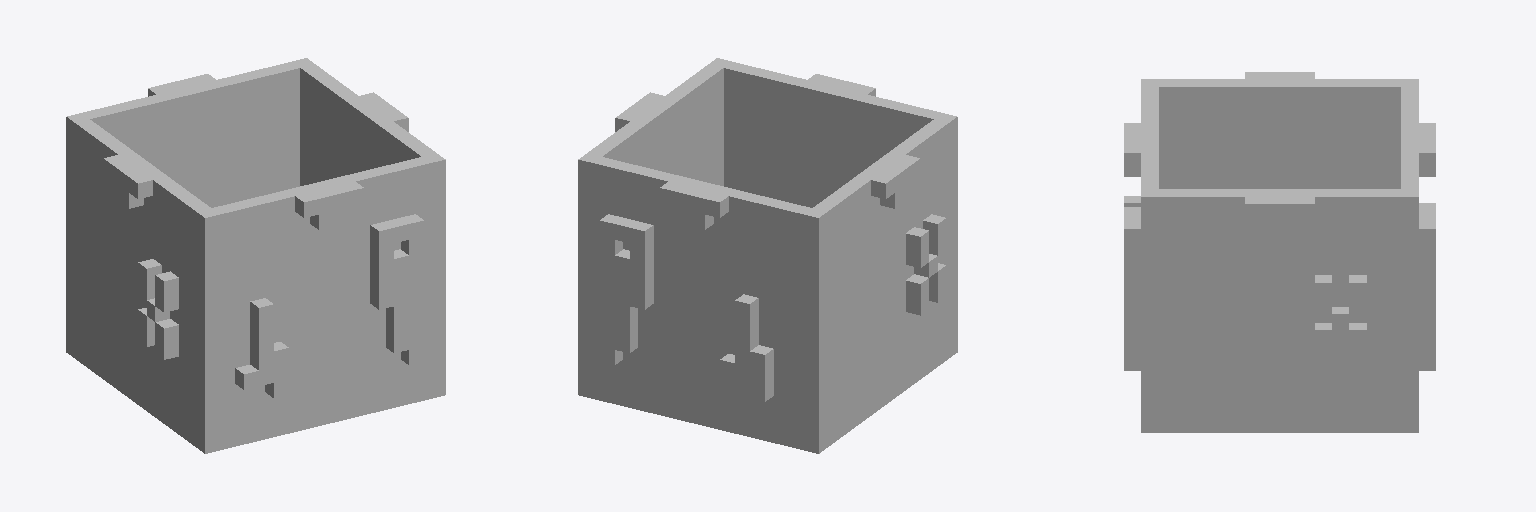
File: craftingtable.obj
3 renders of one model, left to right at view 1: azimuth 30°, elevation 25°; view 2: azimuth 150°, elevation 25°; view 3: azimuth 270°, elevation 25°, orthographic.
Visible parts, largest first — view 1: craftingtable; view 2: craftingtable; view 3: craftingtable.
Boxes of the visible parts, <box> form: craftingtable: <box>66,58,445,453</box>; craftingtable: <box>578,58,957,453</box>; craftingtable: <box>1124,72,1435,432</box>.
Bounding box in the file's own units: 1.8 × 1.5 × 1.8.